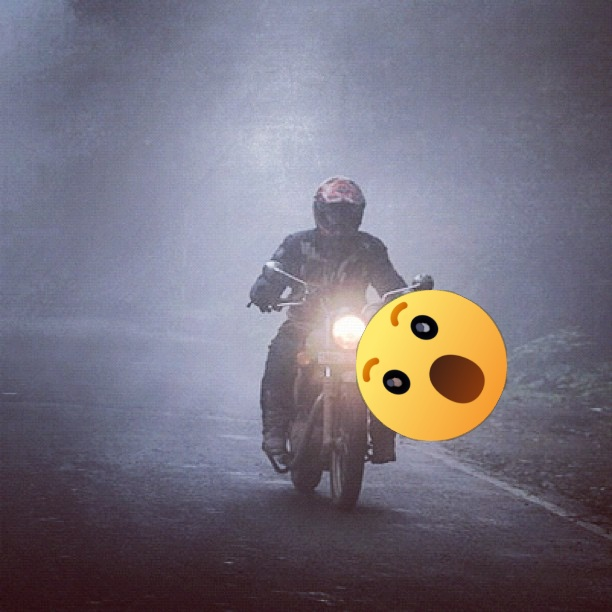wow: (356, 290, 507, 441)
